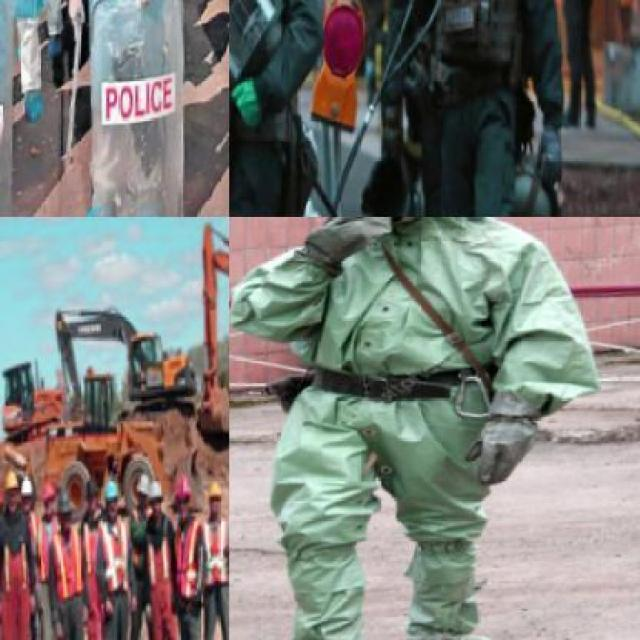Vest: (265, 217, 603, 638), (59, 0, 190, 188), (229, 0, 328, 120), (425, 0, 529, 91), (91, 523, 137, 603), (42, 532, 84, 616), (194, 517, 228, 601), (168, 523, 200, 612)
